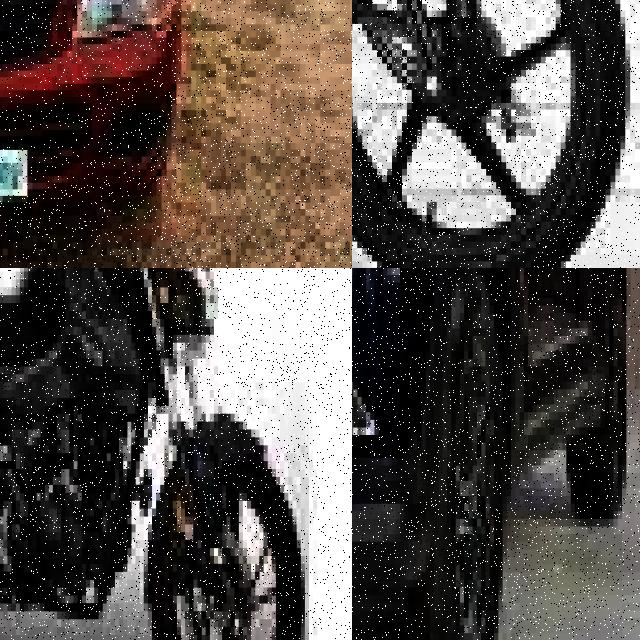bike: (0, 268, 296, 640), (352, 0, 635, 268)
car: (352, 268, 622, 640), (0, 0, 191, 189)
